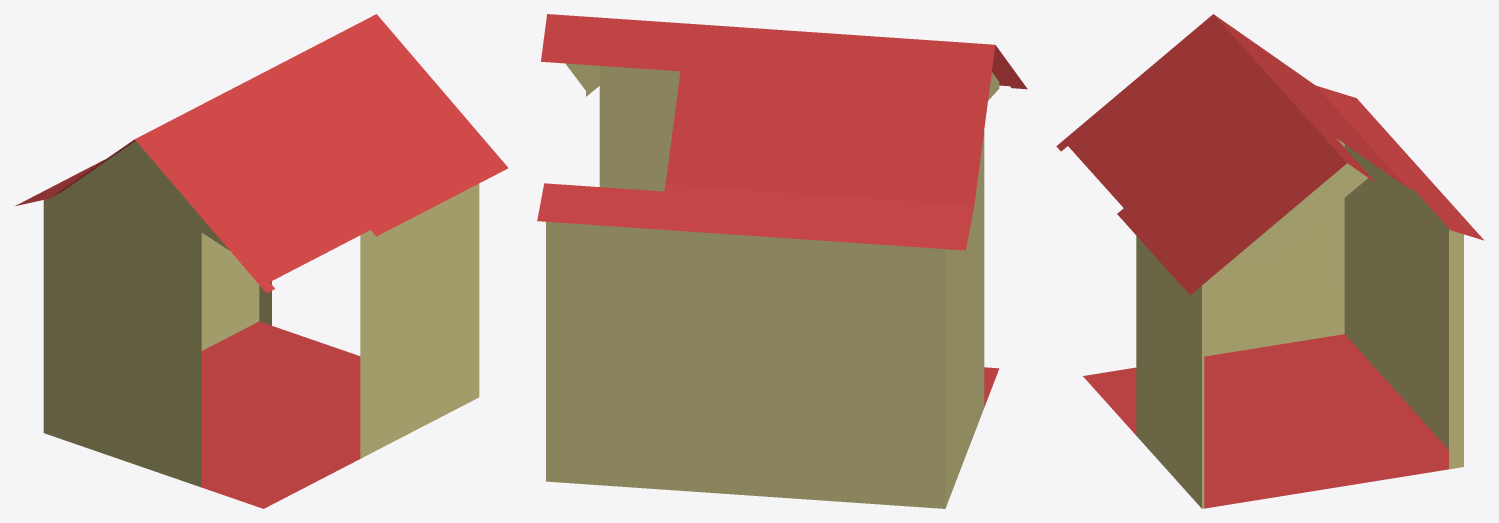
3 renders of one model, left to right at view 1: azimuth 30°, elevation 25°; view 2: azimuth 150°, elevation 25°; view 3: azimuth 270°, elevation 25°, orthographic. The views are drawn at different scales.
Bounding box in the file's own units: 17.04 × 15.63 × 13.36.
